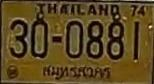0: (30, 19, 48, 58), (65, 20, 83, 58)
1: (133, 22, 138, 58)
3: (9, 19, 27, 57)
8: (106, 20, 123, 59), (86, 20, 102, 58)
SKN: (41, 63, 113, 81)
